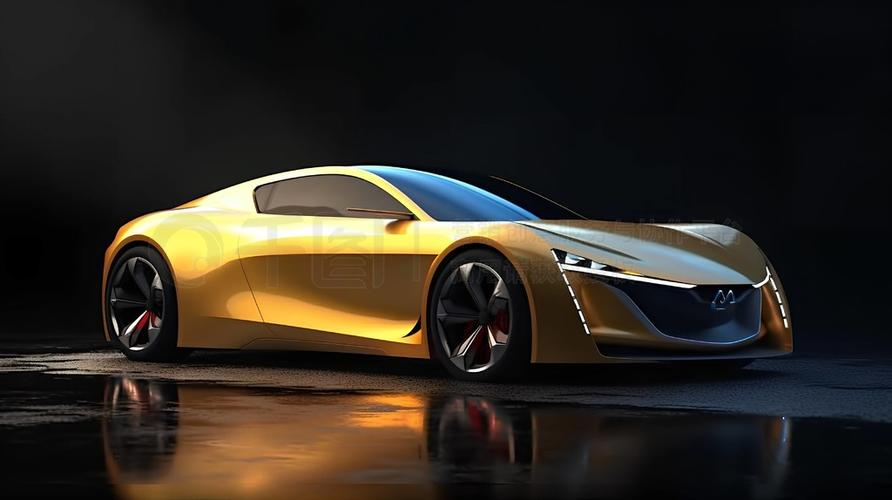汽车: (84, 162, 811, 390)
